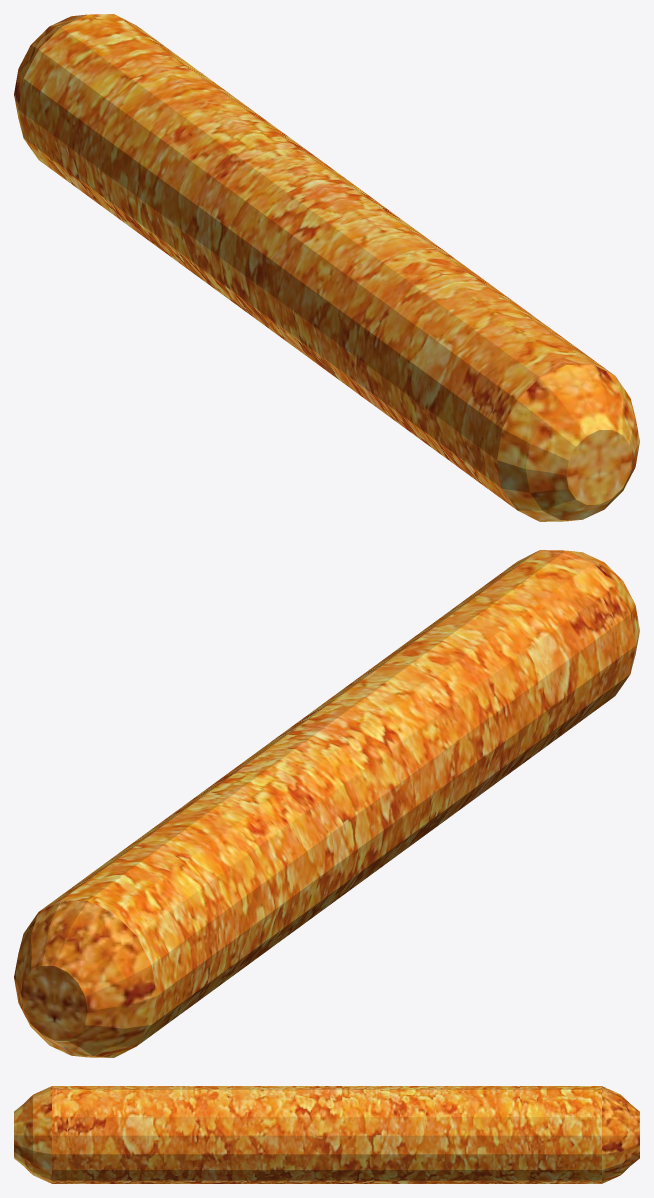
The model's file is kipcorn.fbx.
The picture shows the model from 3 angles, top to bottom: view 1: azimuth 30°, elevation 25°; view 2: azimuth 150°, elevation 25°; view 3: azimuth 270°, elevation 25°; orthographic projection. The views are drawn at different scales.
Visible parts, largest first — view 1: Cylinder; view 2: Cylinder; view 3: Cylinder.
Boxes of the visible parts, x1,y1,x2,y2 form: Cylinder: [14, 14, 639, 521]; Cylinder: [14, 550, 639, 1057]; Cylinder: [14, 1086, 639, 1183].
Bounding box in the file's own units: 0.0217 × 0.0234 × 0.1479.
